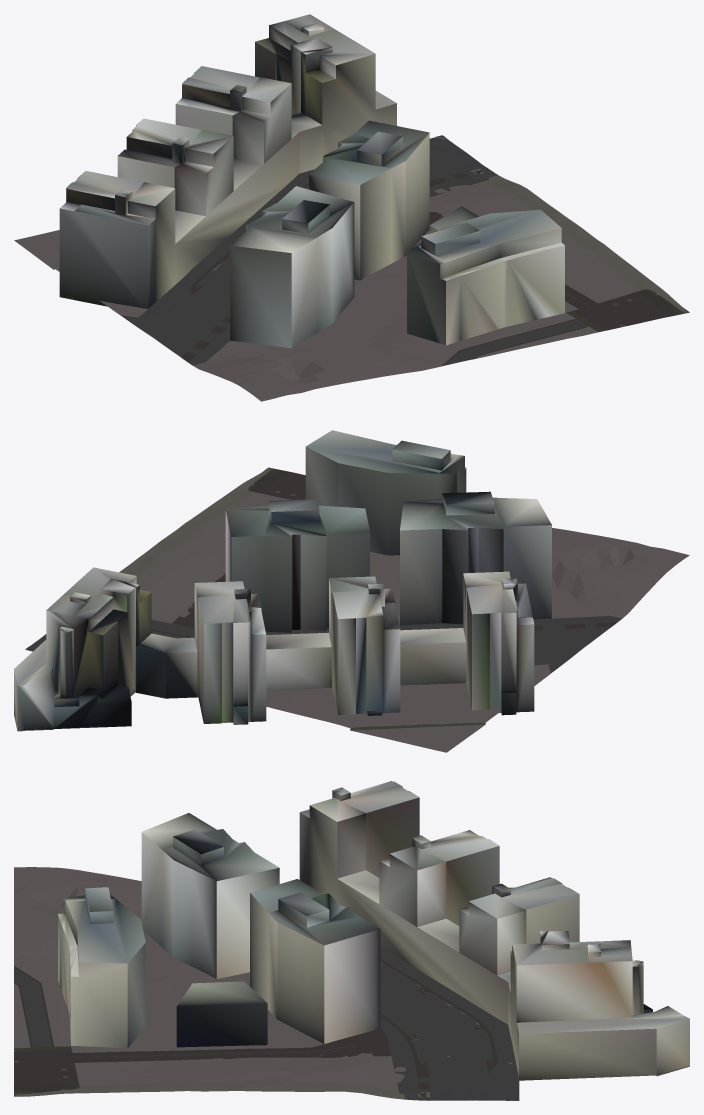
3 renders of one model, top to bottom at view 1: azimuth 30°, elevation 25°; view 2: azimuth 150°, elevation 25°; view 3: azimuth 270°, elevation 25°, orthographic. The views are drawn at different scales.
Visible parts, largest first — view 1: c_m15_p08; view 2: c_m15_p08; view 3: c_m15_p08.
Part boxes in pixels (<box>): c_m15_p08: <box>14,14,689,401</box>; c_m15_p08: <box>14,430,689,752</box>; c_m15_p08: <box>14,781,689,1100</box>.
Bounding box in the file's own units: 135 × 33.63 × 171.
